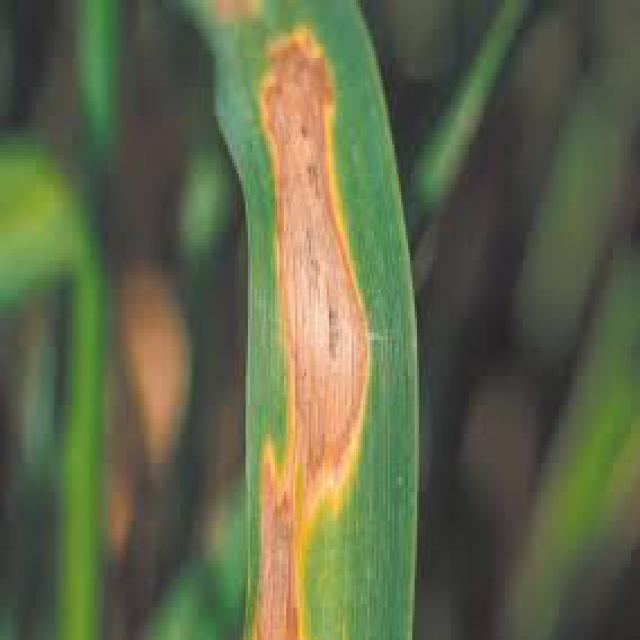wheat-septoria: (240, 10, 384, 640)
